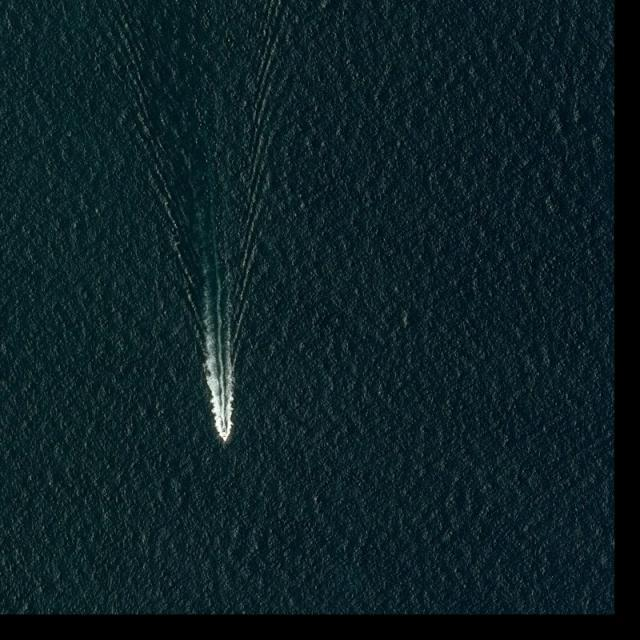ship: (221, 426, 230, 442)
